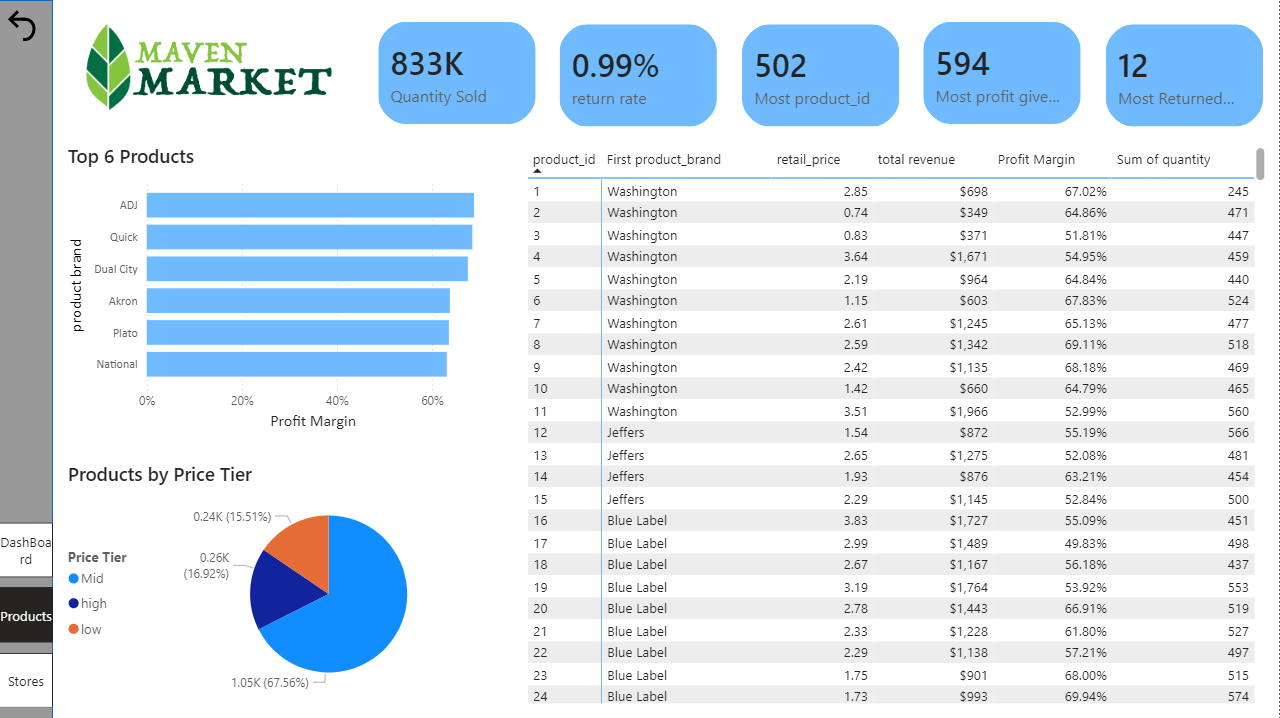

What the dashboard file says about the page in this screenshot:
{"tool":"powerbi","page":{"name":"Products","canvas":[1280,720],"ordinal":1},"visuals":[{"type":"barChart","title":"Top 6 Products ","fields":{"Category":["Products.product_brand"],"Y":["Measure Table.Profit Margin"]},"box":[64,143,434,293],"z":0},{"type":"shape","box":[0,0,54,720],"z":1000},{"type":"actionButton","box":[3,5,47,41],"z":2000},{"type":"image","box":[80,17,258,98],"z":3000},{"type":"pieChart","fields":{"Category":["Products.Price Tier"],"Y":["CountNonNull(Products.product_name)"]},"box":[64,461,454,241],"z":4000},{"type":"pivotTable","fields":{"Rows":["Products.product_id"],"Values":["Min(Products.product_brand)","Sum(Products.product_retail_price)","Measure Table.total revenue","Measure Table.Profit Margin","Sum(Transactions_Data.quantity)"]},"box":[524,143,747,566],"z":5000},{"type":"group","id":"g1","title":"Group 1","box":[362,5,918,138],"z":6000},{"type":"cardVisual","fields":{"Data":["CountNonNull(Returns_Data.product_id)"]},"box":[1089,7,191,136],"z":6000,"group":"g1"},{"type":"cardVisual","fields":{"Data":["Min(Transactions_Data.product_id)"]},"box":[907.2,5,191,136],"z":7000,"group":"g1"},{"type":"pageNavigator","box":[0,522,54,187],"z":7000},{"type":"cardVisual","fields":{"Data":["Min(Transactions_Data.product_id)"]},"box":[725.5,7,191,136],"z":8000,"group":"g1"},{"type":"cardVisual","fields":{"Data":["Measure Table.Quantity Sold"]},"box":[362,5,191,136],"z":9000,"group":"g1"},{"type":"cardVisual","fields":{"Data":["Measure Table.return rate"]},"box":[543.8,7,191,136],"z":10000,"group":"g1"}]}

Visuals, with their boxes on the page's 1280x720 design canvas (x1, y1, x2, y2). These are canvas units, not pixel positions in the 1280x718 screenshot, which may show the page scaled, cropped or inside an application window:
"Top 6 Products " barChart: pyautogui.locateOnScreen(64, 143, 498, 436)
shape: pyautogui.locateOnScreen(0, 0, 54, 720)
actionButton: pyautogui.locateOnScreen(3, 5, 50, 46)
image: pyautogui.locateOnScreen(80, 17, 338, 115)
pieChart - Products.Price Tier x CountNonNull(Products.product_name): pyautogui.locateOnScreen(64, 461, 518, 702)
pivotTable - Products.product_id x Min(Products.product_brand): pyautogui.locateOnScreen(524, 143, 1271, 709)
"Group 1" group: pyautogui.locateOnScreen(362, 5, 1280, 143)
cardVisual - CountNonNull(Returns_Data.product_id): pyautogui.locateOnScreen(1089, 7, 1280, 143)
cardVisual - Min(Transactions_Data.product_id): pyautogui.locateOnScreen(907, 5, 1098, 141)
pageNavigator: pyautogui.locateOnScreen(0, 522, 54, 709)
cardVisual - Min(Transactions_Data.product_id): pyautogui.locateOnScreen(726, 7, 916, 143)
cardVisual - Measure Table.Quantity Sold: pyautogui.locateOnScreen(362, 5, 553, 141)
cardVisual - Measure Table.return rate: pyautogui.locateOnScreen(544, 7, 735, 143)
